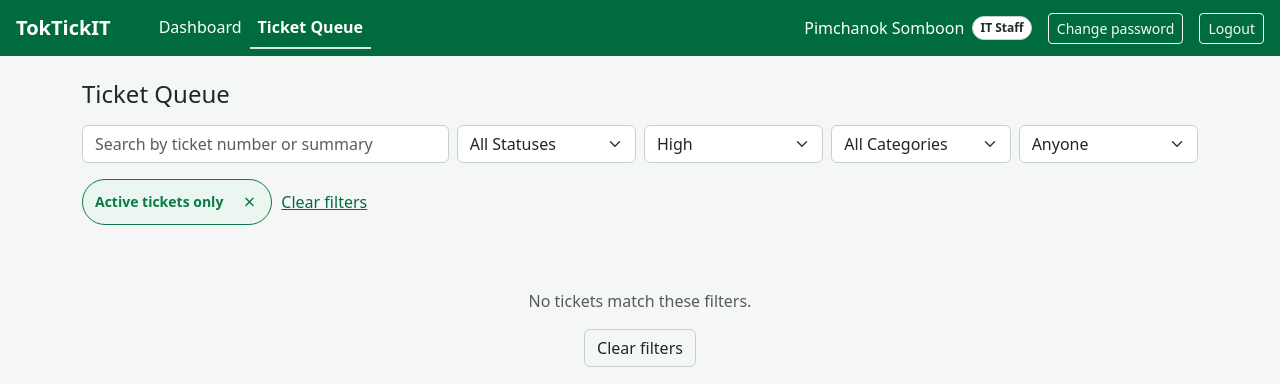
Test: drill-down targets read the dashboard query string › opens the queue with its filters and the removable Active tickets only chip
Expected: the dropdown named "IT Priority" shows "High", [644, 125, 823, 163]
Click the button named "Remove filter: Active tickets only" at (249, 202), box [227, 180, 271, 224]
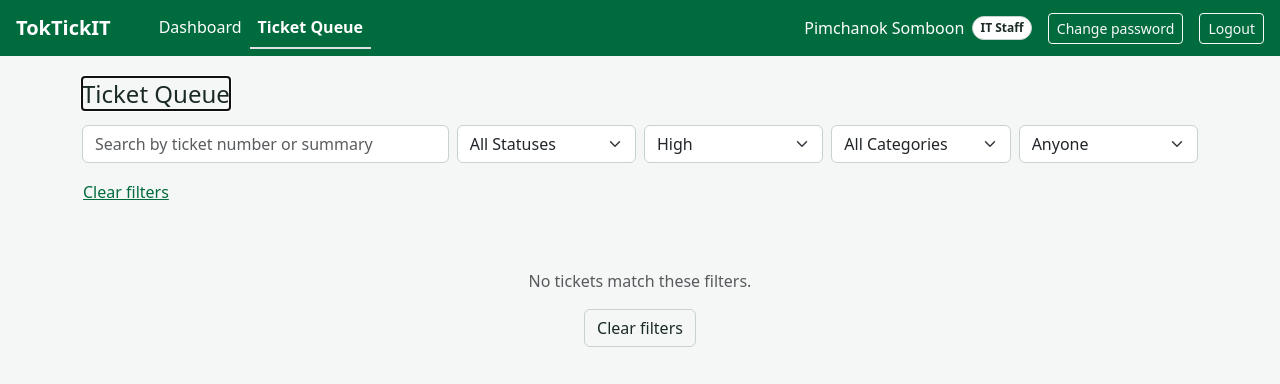
Expected: the text "Active tickets only" is gone
